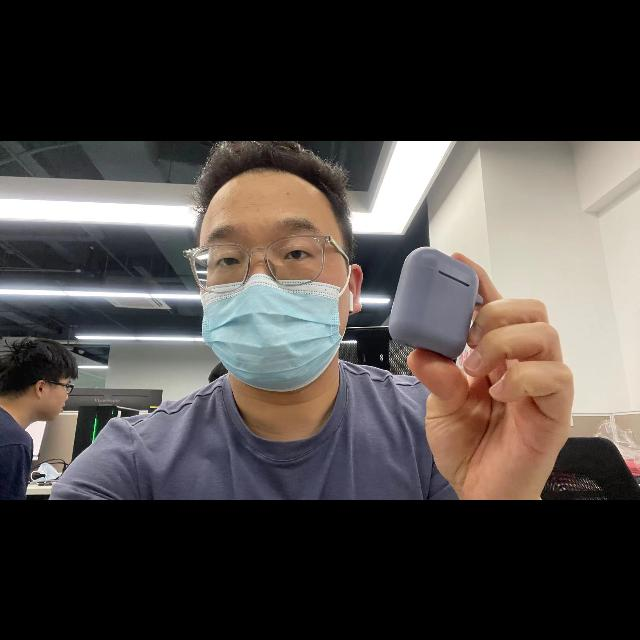airpods: (389, 245, 478, 359)
